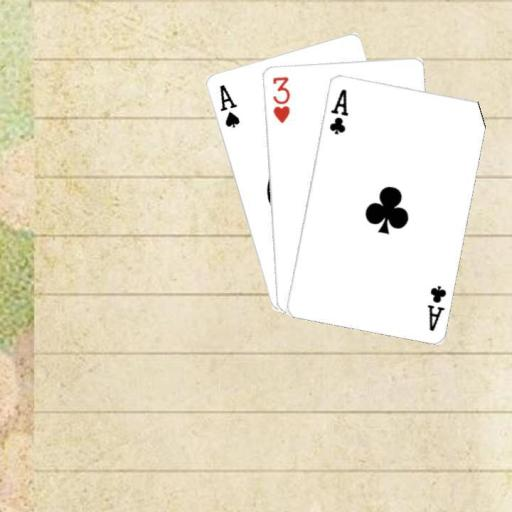3H: (269, 74, 291, 125)
AC: (326, 85, 349, 136), (424, 282, 447, 332)
AS: (216, 81, 241, 129)
